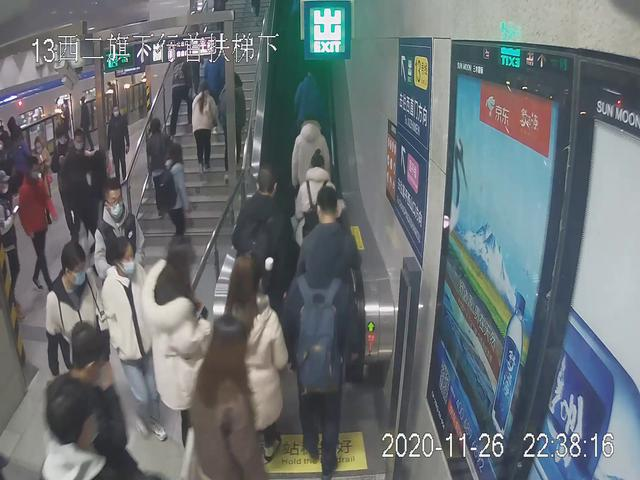person: (281, 244, 360, 473), (39, 232, 111, 471), (223, 162, 313, 338), (217, 249, 283, 473), (98, 233, 163, 445), (150, 232, 213, 445), (295, 187, 363, 326), (87, 173, 148, 326), (17, 153, 68, 289), (153, 147, 195, 248), (295, 112, 328, 198), (167, 40, 195, 141), (294, 60, 324, 151), (191, 81, 220, 171), (106, 101, 135, 190)
